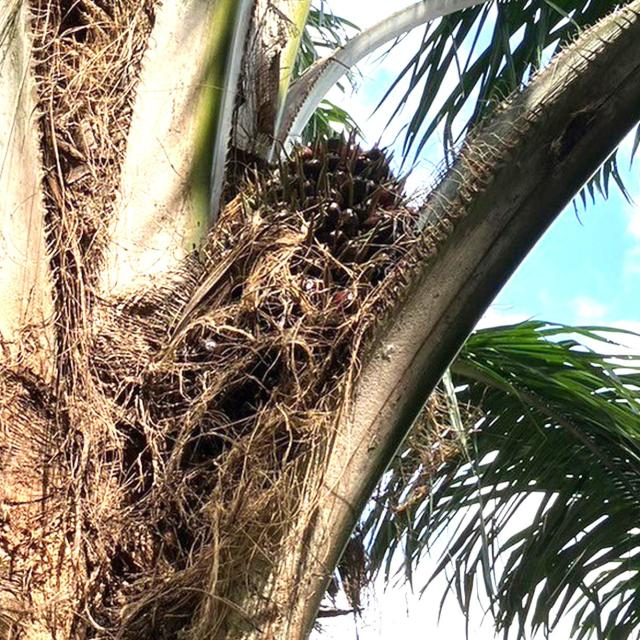almost: (199, 110, 414, 416)
